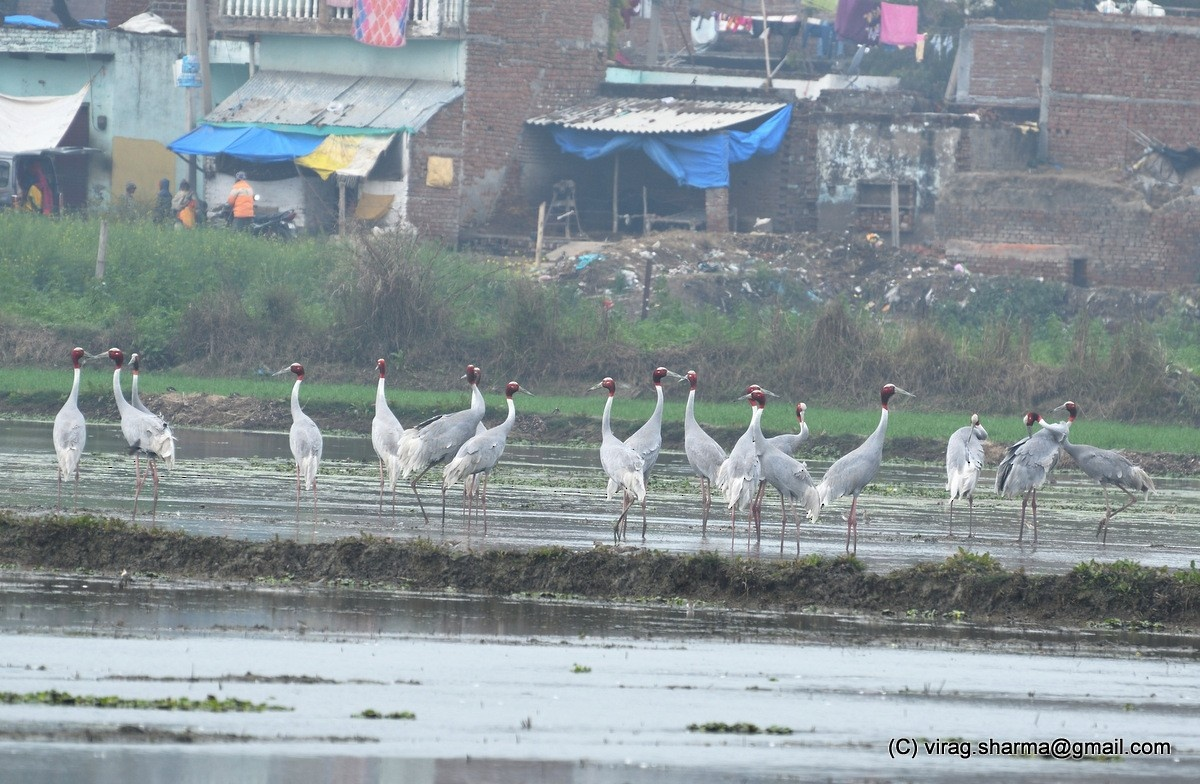crane: (816, 380, 922, 531), (1058, 396, 1159, 536), (96, 343, 178, 501), (742, 386, 825, 533), (448, 375, 537, 512), (403, 359, 489, 491), (588, 376, 648, 533), (270, 352, 334, 493), (672, 371, 728, 528), (999, 407, 1054, 556), (362, 351, 411, 492), (629, 360, 687, 477), (49, 339, 90, 499), (943, 408, 995, 532)
